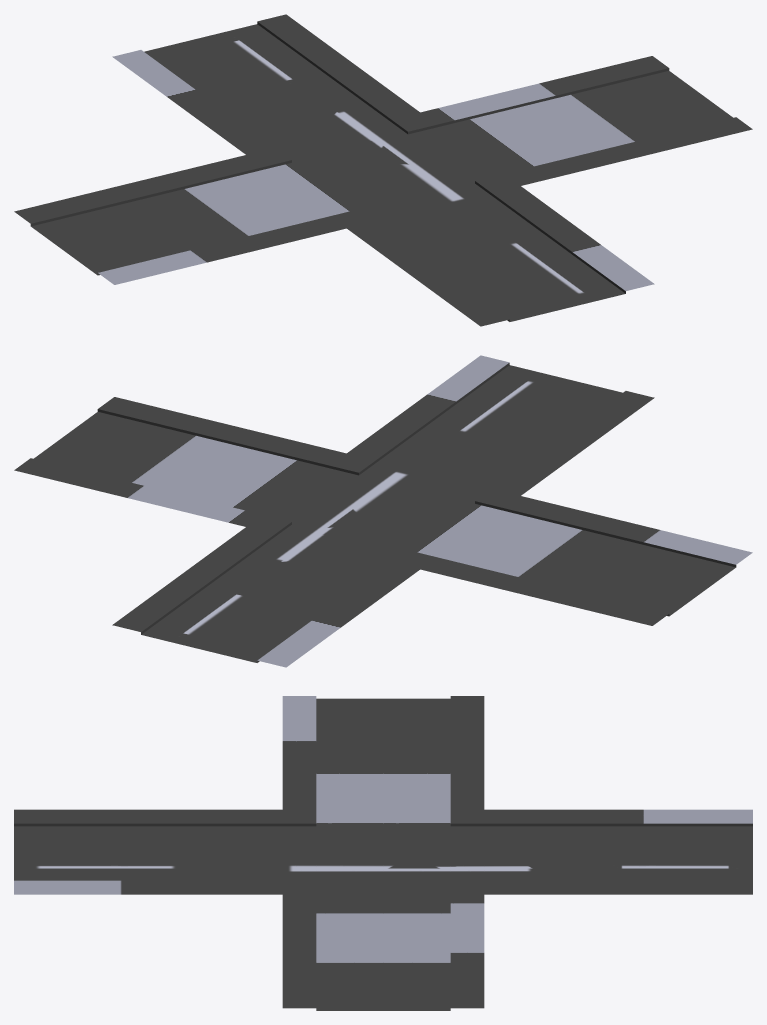
File: 4 Way.fbx
3 renders of one model, top to bottom at view 1: azimuth 30°, elevation 25°; view 2: azimuth 150°, elevation 25°; view 3: azimuth 270°, elevation 25°, orthographic.
Visible parts, largest first — view 1: 4Way 2; view 2: 4Way 2; view 3: 4Way 2.
Part boxes in pixels (box(x1,y1,x2,y2)): 4Way 2: box(14, 14, 752, 326); 4Way 2: box(14, 355, 752, 667); 4Way 2: box(14, 696, 752, 1010).
Bounding box in the file's own units: 2200 × 8.77 × 2200.
